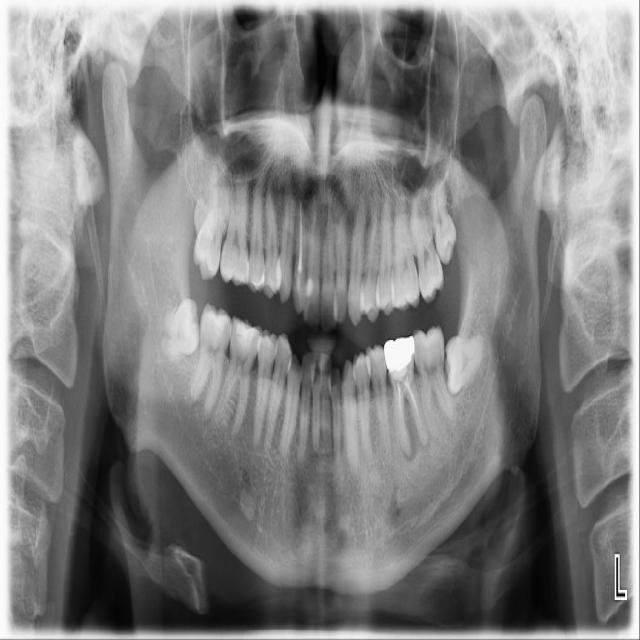Crown: (384, 335, 415, 374)
Filling: (235, 319, 256, 352), (205, 313, 228, 339), (260, 334, 277, 355), (308, 278, 319, 299)
Periapical lesion: (400, 425, 417, 463), (191, 402, 213, 426), (417, 430, 431, 451)
Root Canal Treatment: (403, 387, 418, 419), (298, 201, 302, 274), (397, 384, 402, 422)
impacted tooth: (155, 300, 198, 360), (430, 177, 458, 267), (445, 333, 484, 396)
